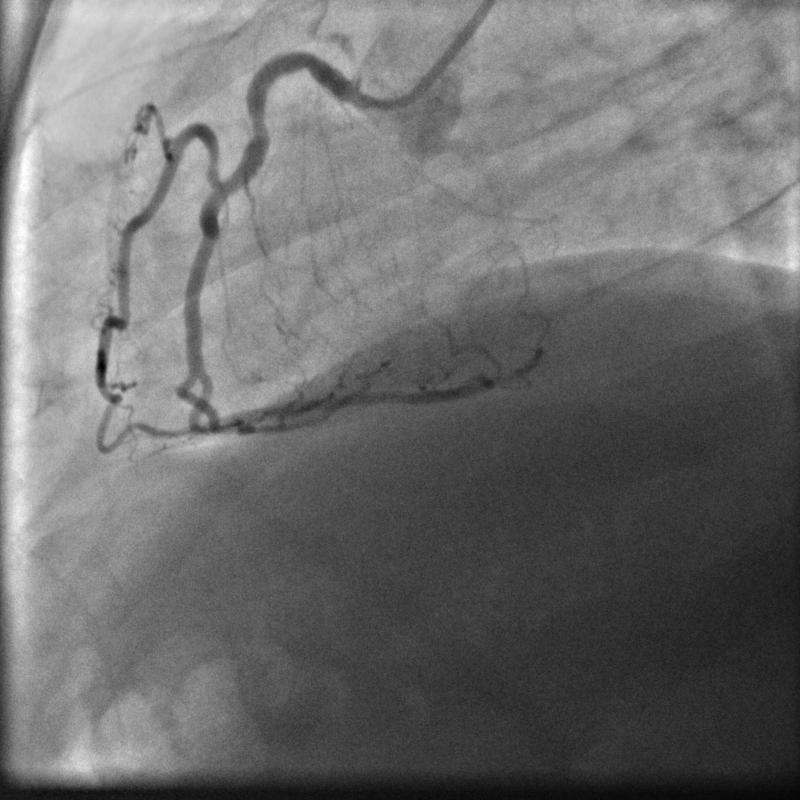Stenosis: (244, 112, 272, 143)
